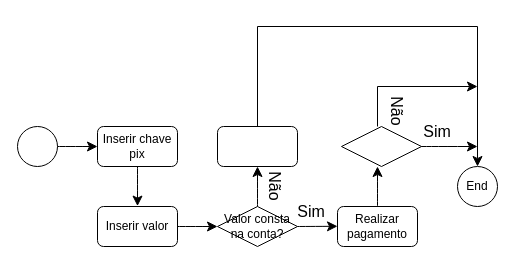
Some shapes in this 515 by 264 pixel diagram are drawn without their labels. Here are the shapes that lost their labels. From the top down, the centre of each, then its label:
At (37,146): "Start".
At (257,146): "Pagamento inválido".
At (381,146): "Gerar comprovante?".
